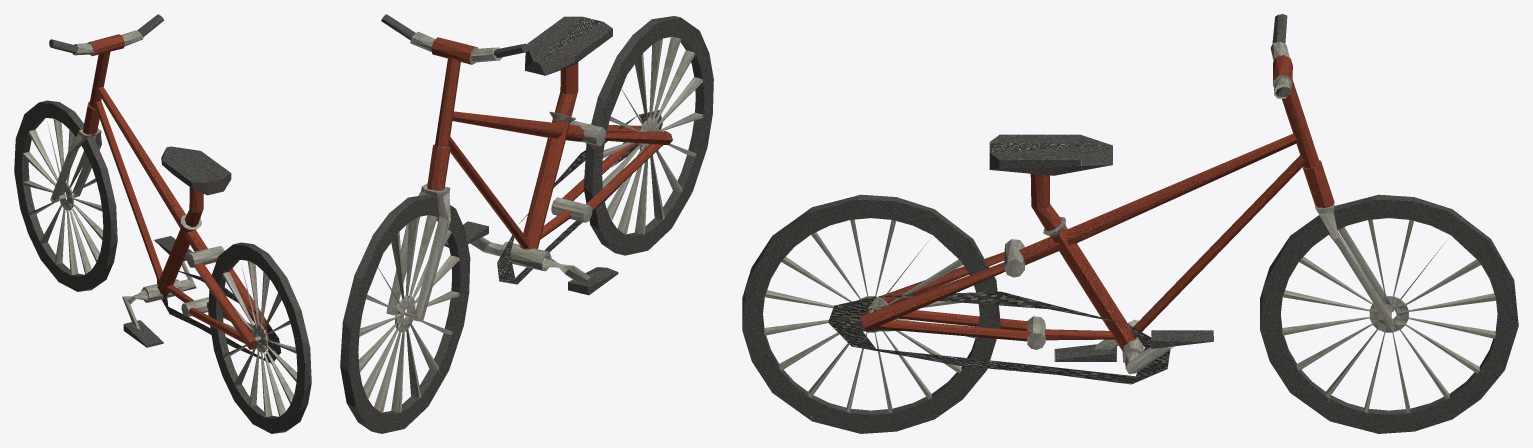
File: Bicycle.gltf
3 views of the same model, side by side, from view 1: azimuth 30°, elevation 25°; view 2: azimuth 150°, elevation 25°; view 3: azimuth 270°, elevation 25° (orthographic). The views are drawn at different scales.
Parts seen in each view (by area): view 1: TopBar, FrontWheel.001, BackWheel, FrontWheel, Pedals, Chain; view 2: FrontWheel.001, BackWheel, TopBar, FrontWheel, Pedals, Chain; view 3: TopBar, FrontWheel.001, BackWheel, Chain, FrontWheel, Pedals.
Boxes of the visible parts, box(x1,y1,x2,y2) form: TopBar: box(94, 87, 272, 349); FrontWheel.001: box(14, 100, 117, 291); BackWheel: box(208, 242, 311, 433); FrontWheel: box(49, 14, 164, 202); Pedals: box(122, 236, 196, 347); Chain: box(156, 271, 281, 363); FrontWheel.001: box(340, 194, 470, 433); BackWheel: box(583, 16, 713, 255); TopBar: box(449, 16, 672, 249); FrontWheel: box(381, 14, 529, 321); Pedals: box(444, 221, 618, 295); Chain: box(497, 110, 662, 284); TopBar: box(860, 134, 1304, 350); FrontWheel.001: box(1260, 194, 1518, 433); BackWheel: box(742, 194, 1000, 433); Chain: box(828, 291, 1170, 384); FrontWheel: box(1270, 14, 1393, 326); Pedals: box(1054, 319, 1213, 373).
Size of the model in its own units: 1.36 by 3.26 by 6.
1 material, 1 textured.
